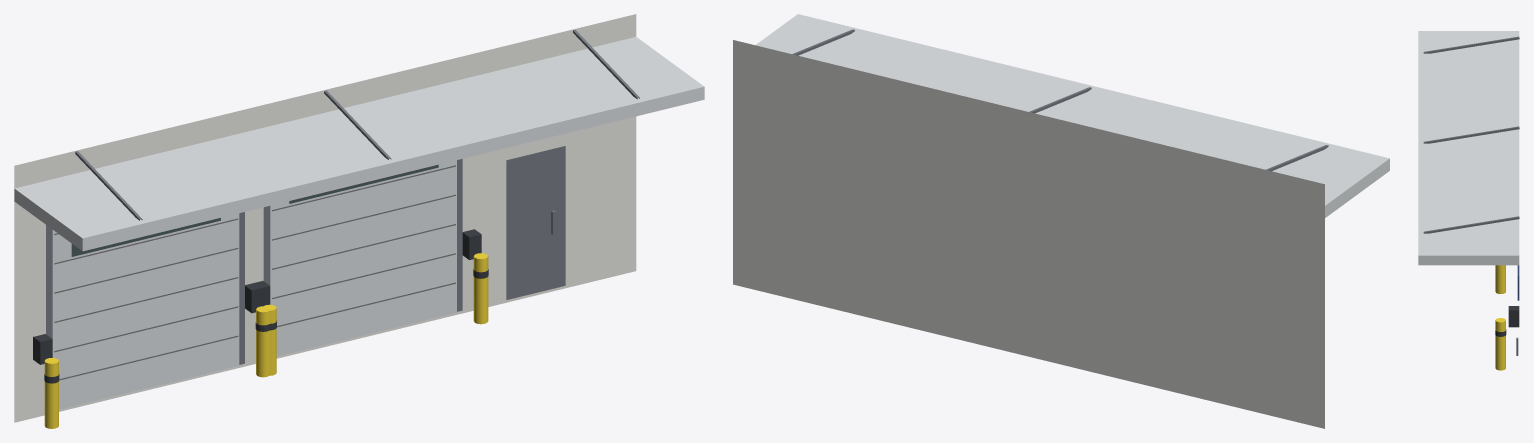
File: entrance_close.fbx
3 renders of one model, left to right at view 1: azimuth 30°, elevation 25°; view 2: azimuth 150°, elevation 25°; view 3: azimuth 270°, elevation 25°, orthographic. The views are drawn at different scales.
Parts seen in each view (by area): view 1: a2013/200/entrance_close; view 2: a2013/200/entrance_close; view 3: a2013/200/entrance_close.
Boxes of the visible parts, x1,y1,x2,y2 form: a2013/200/entrance_close: (14,14,704,428); a2013/200/entrance_close: (733,14,1389,428); a2013/200/entrance_close: (1418,31,1519,370).
Bounding box in the file's own units: 10 × 3.95 × 1.9.
